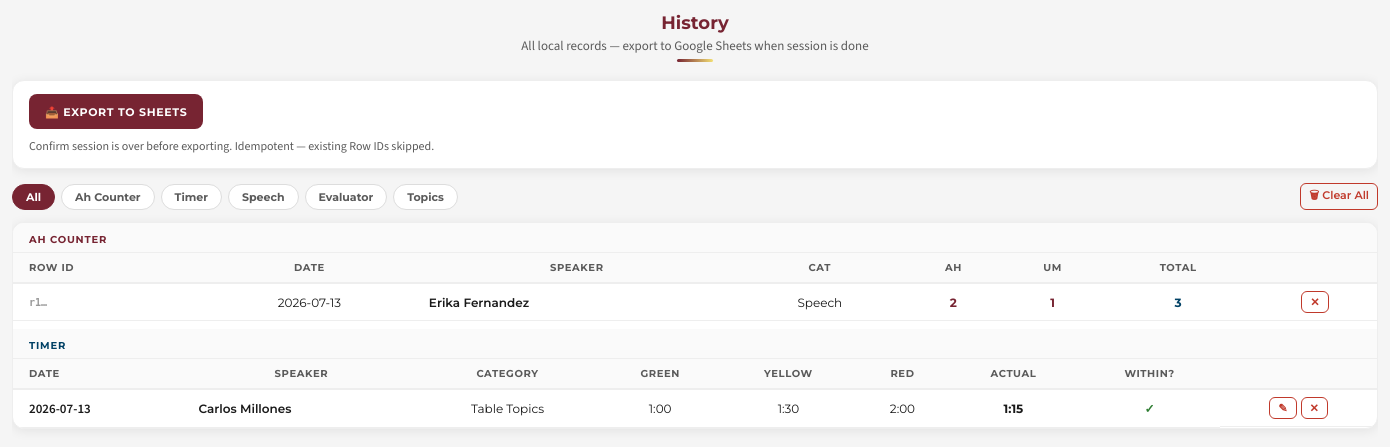
Scenario: HistoryTab › filters to only Ah Counter records
Click the button "Ah Counter" at (108, 196), box [61,184,155,210]
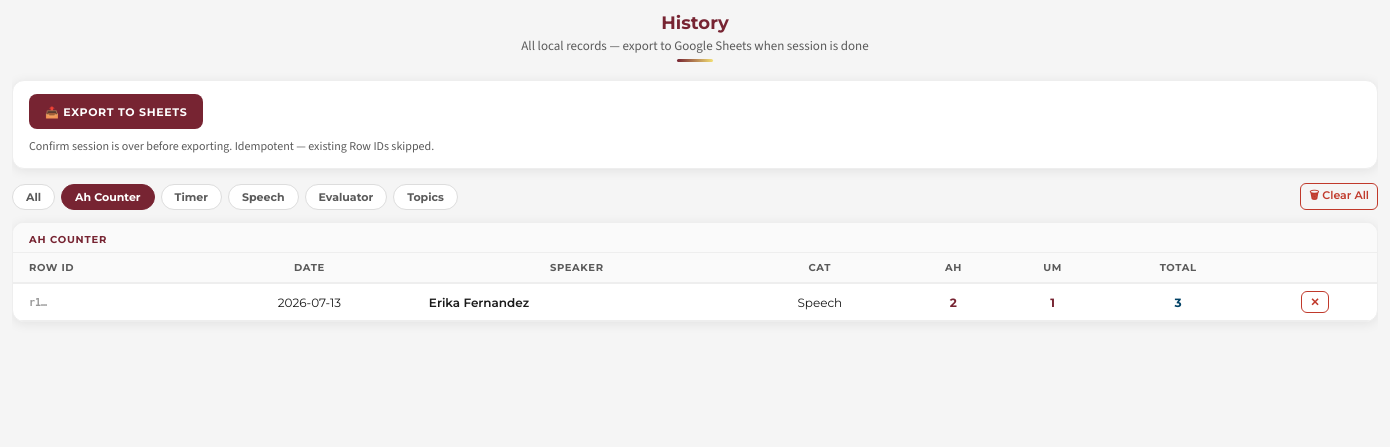
Expected: the text "Erika Fernandez" is shown, [419,283,735,320]
Result: the text "Carlos Millones" is gone
